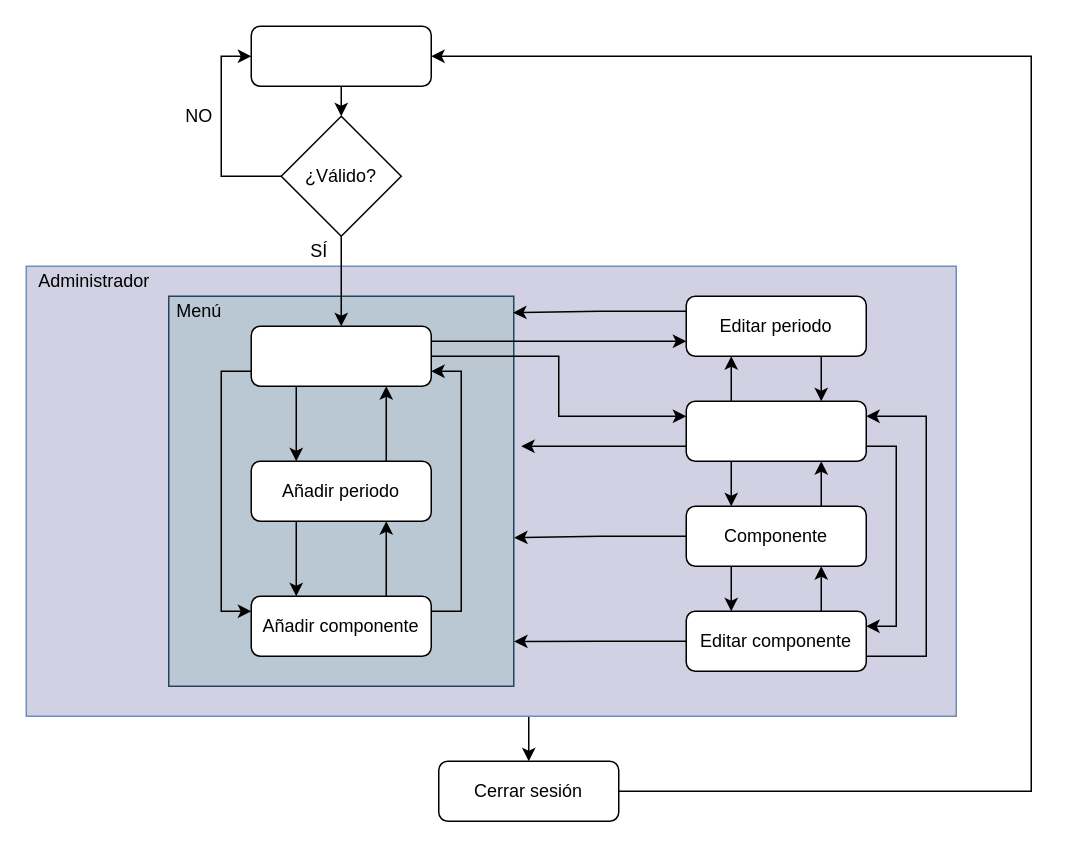
This 1070x848 diagram has some shape labels left out. The centre of each missing label's shape, as x and y in pixels:
"Listado Periodos" belongs at point 340,355.
"Login" belongs at point 340,55.
"Periodo" belongs at point 775,430.
